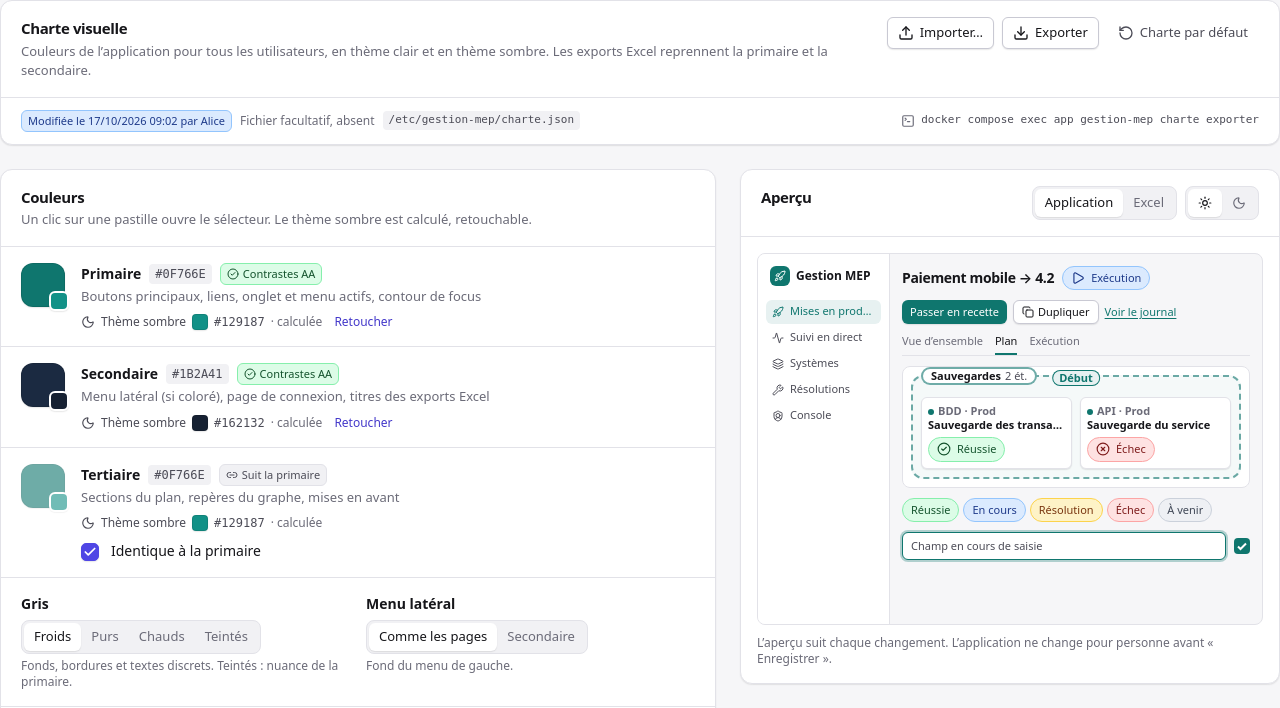
Test: Console › Charte visuelle › « Charte par défaut » efface la charte de la console après confirmation
The width and height of the screenshot is (1280, 708).
Check: the text "Modifiée le 17/10/2026 09:02 par Alice" is shown, box [21, 110, 232, 132]
Click the button "Charte par défaut". click: click(1183, 33)
box: [1107, 17, 1259, 49]
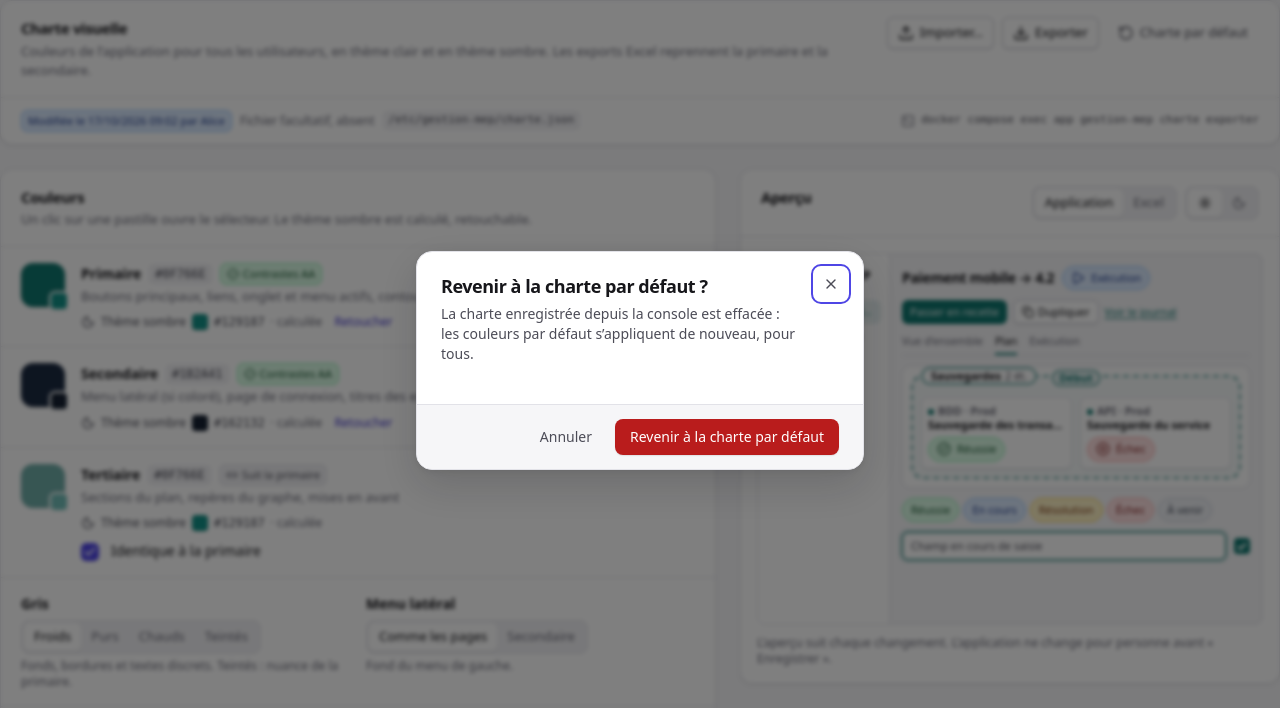
Check: the dialog shows "les couleurs par défaut s’appliquent de nouveau, pour tous", box [441, 304, 795, 362]
Click the button "Revenir à la charte par défaut". click: click(727, 436)
box: [615, 418, 839, 454]
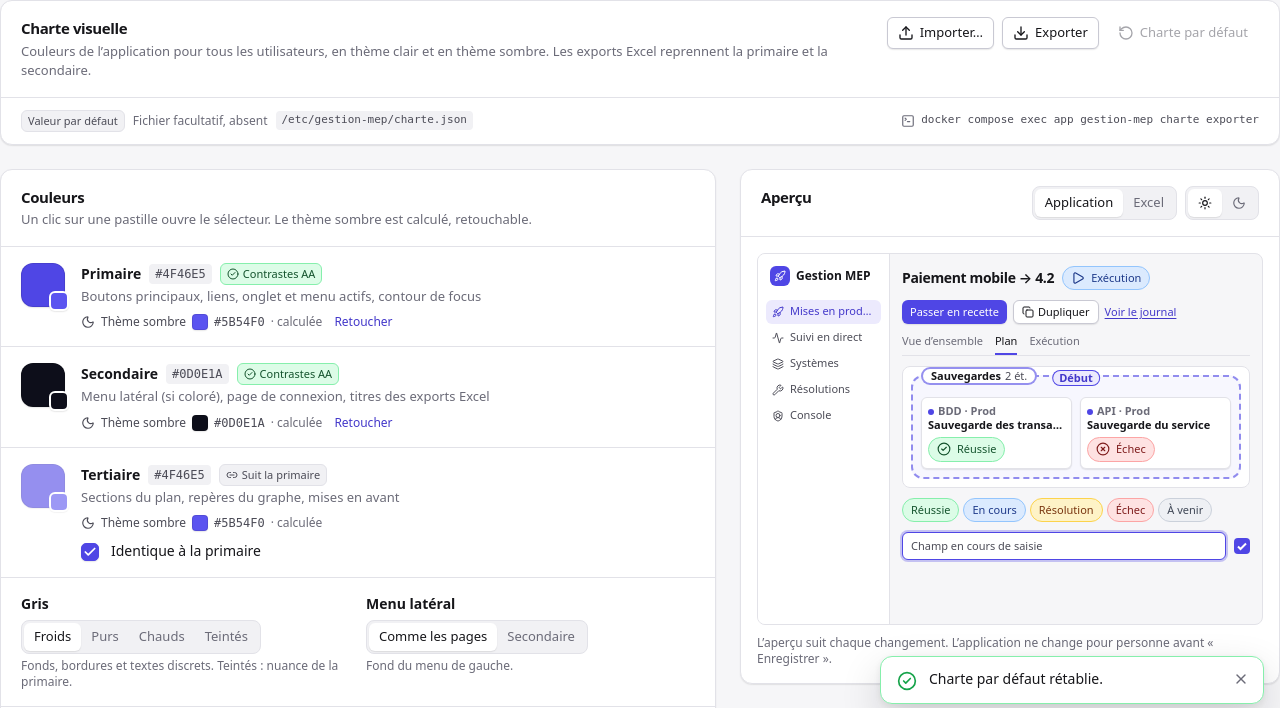
Check: the text "Valeur par défaut" is shown, box [21, 110, 125, 132]
